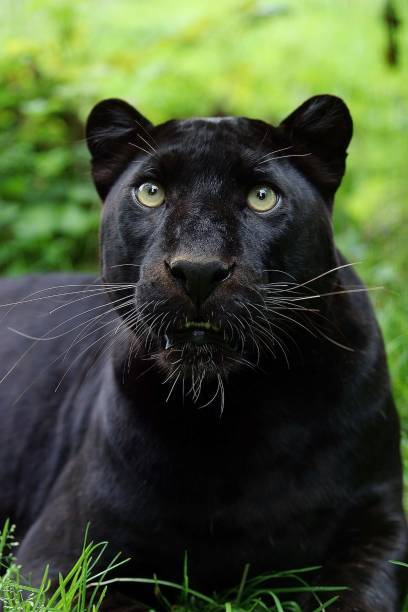panther: (73, 91, 362, 402)
